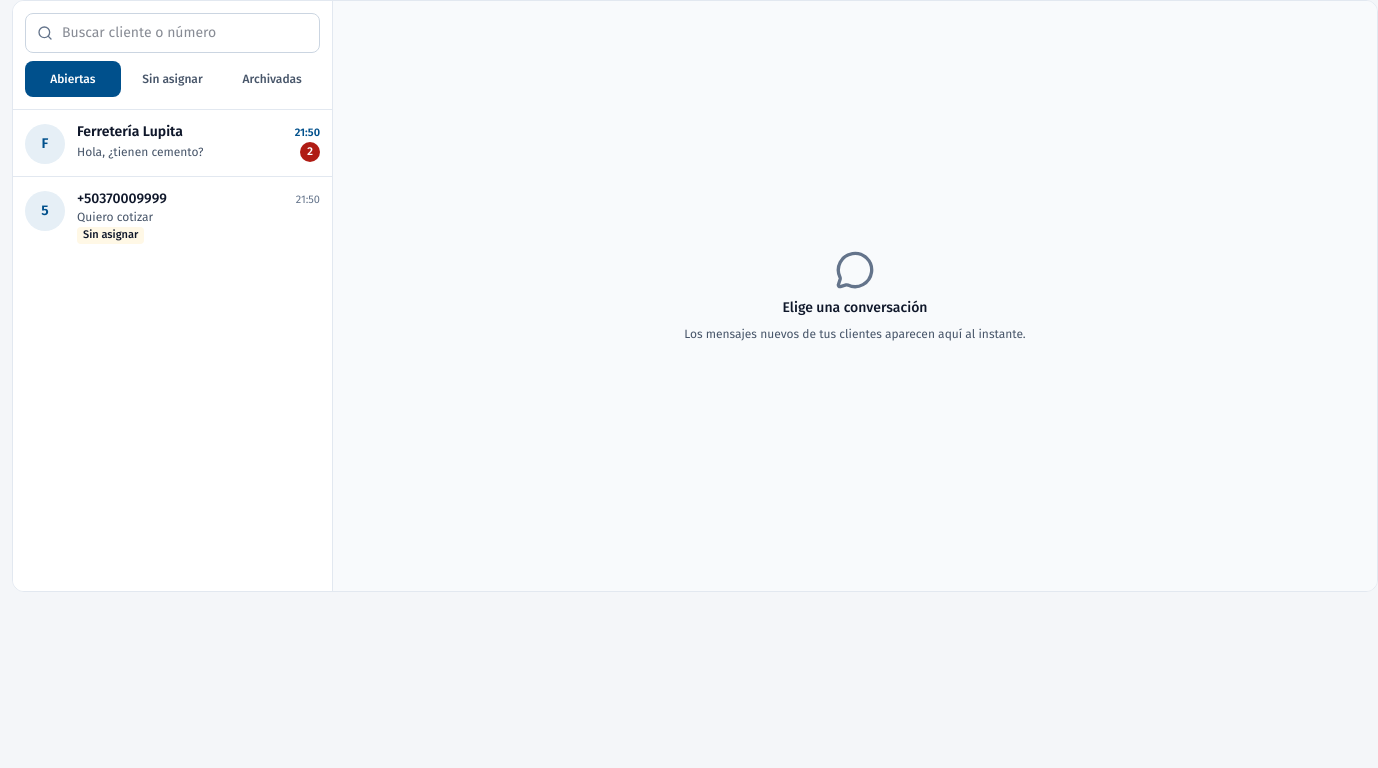
Test: conversaciones › al abrir una conversación muestra los mensajes con sus estados, citas y archivos, la marca como leída y muestra notas
Click the button "F Ferretería Lupita 21:50 Hola, ¿tienen cemento? 2".
click(172, 143)  # box x1=13 y1=110 x2=332 y2=176
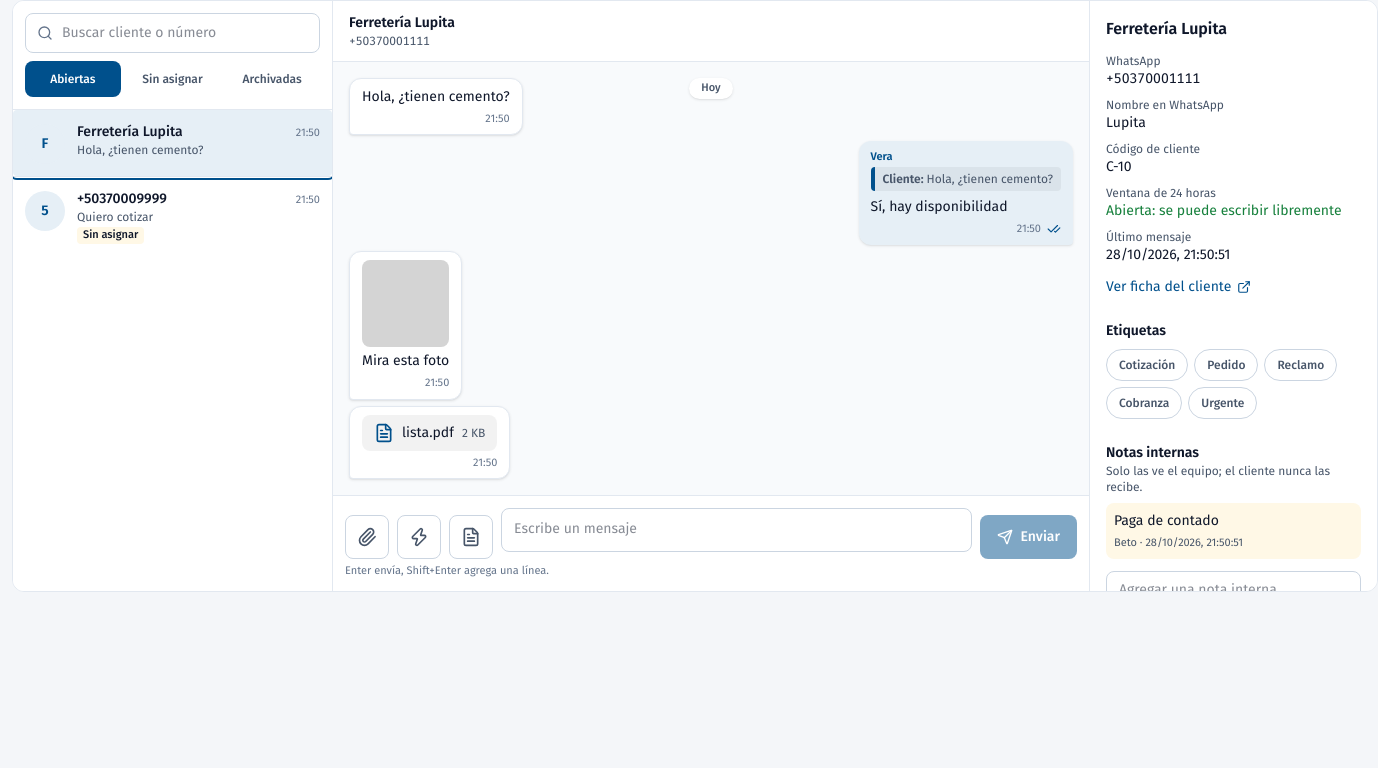
Expected: the text "Sí, hay disponibilidad" is shown, x1=870 y1=198 x2=1008 y2=215
Expected: the text "Cliente:" is shown, x1=882 y1=172 x2=926 y2=186
Expected: the text "Paga de contado" is shown, x1=1114 y1=512 x2=1219 y2=529
